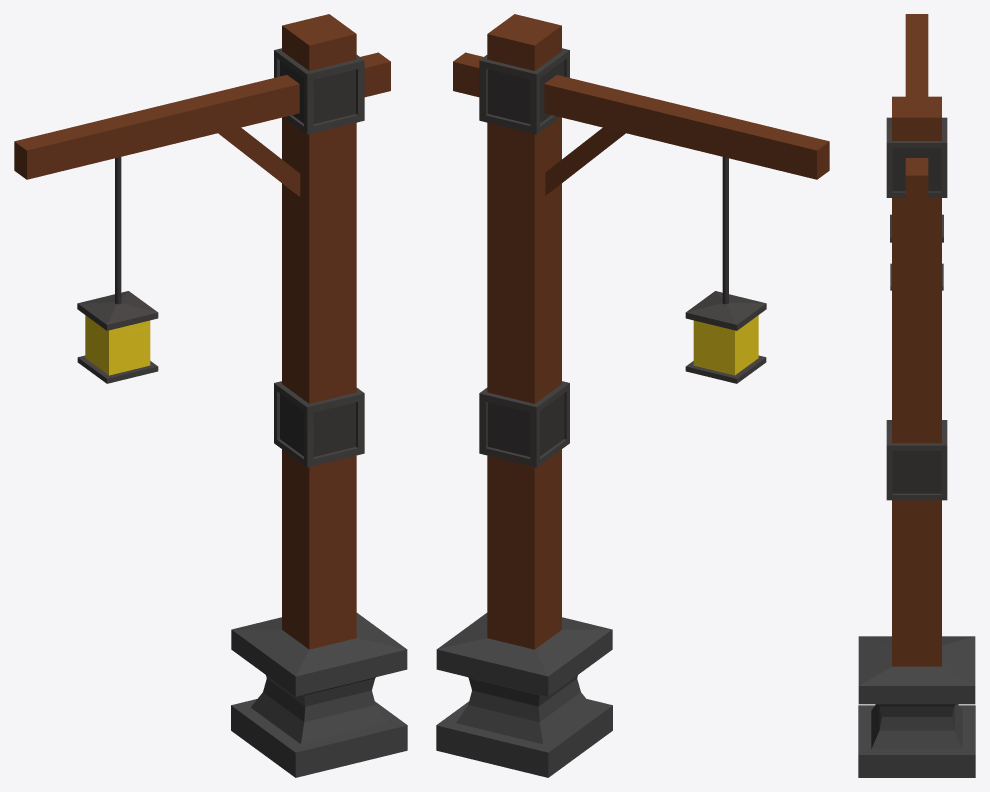
Rendered from postedeluz.fbx.
3 renders of one model, left to right at view 1: azimuth 30°, elevation 25°; view 2: azimuth 150°, elevation 25°; view 3: azimuth 270°, elevation 25°, orthographic. The views are drawn at different scales.
Visible parts, largest first — view 1: Cube.002; view 2: Cube.002; view 3: Cube.002.
Part boxes in pixels (<box>): Cube.002: <box>14,14,407,777</box>; Cube.002: <box>436,14,829,777</box>; Cube.002: <box>858,14,975,777</box>.
Size of the model in its own units: 162 by 301 by 49.76.
2 materials, 2 textured.
